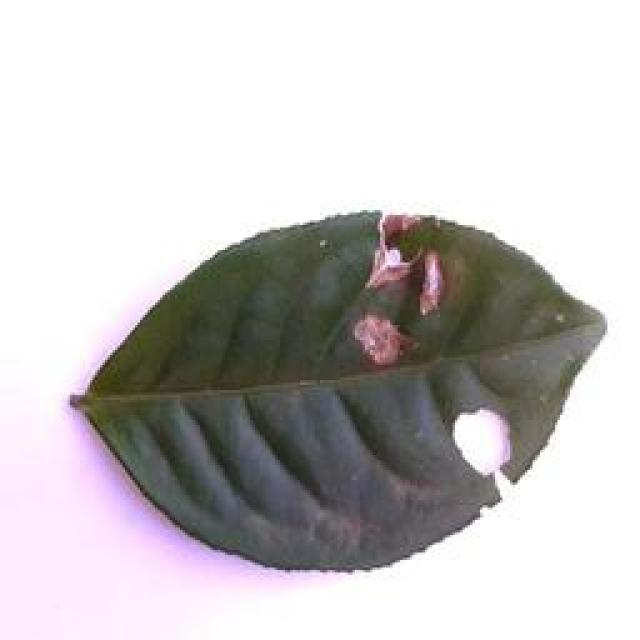Gray Blight: (65, 205, 612, 578)
